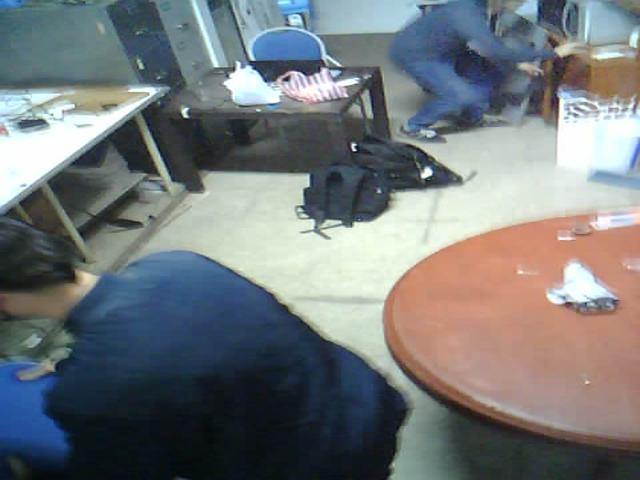person: (3, 189, 416, 480), (383, 0, 547, 150)
